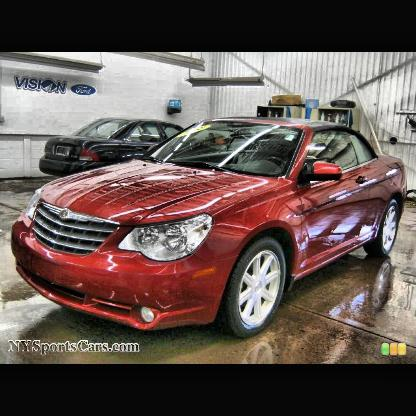Chrysler Sebring Convertible 2010: (11, 117, 409, 340)
